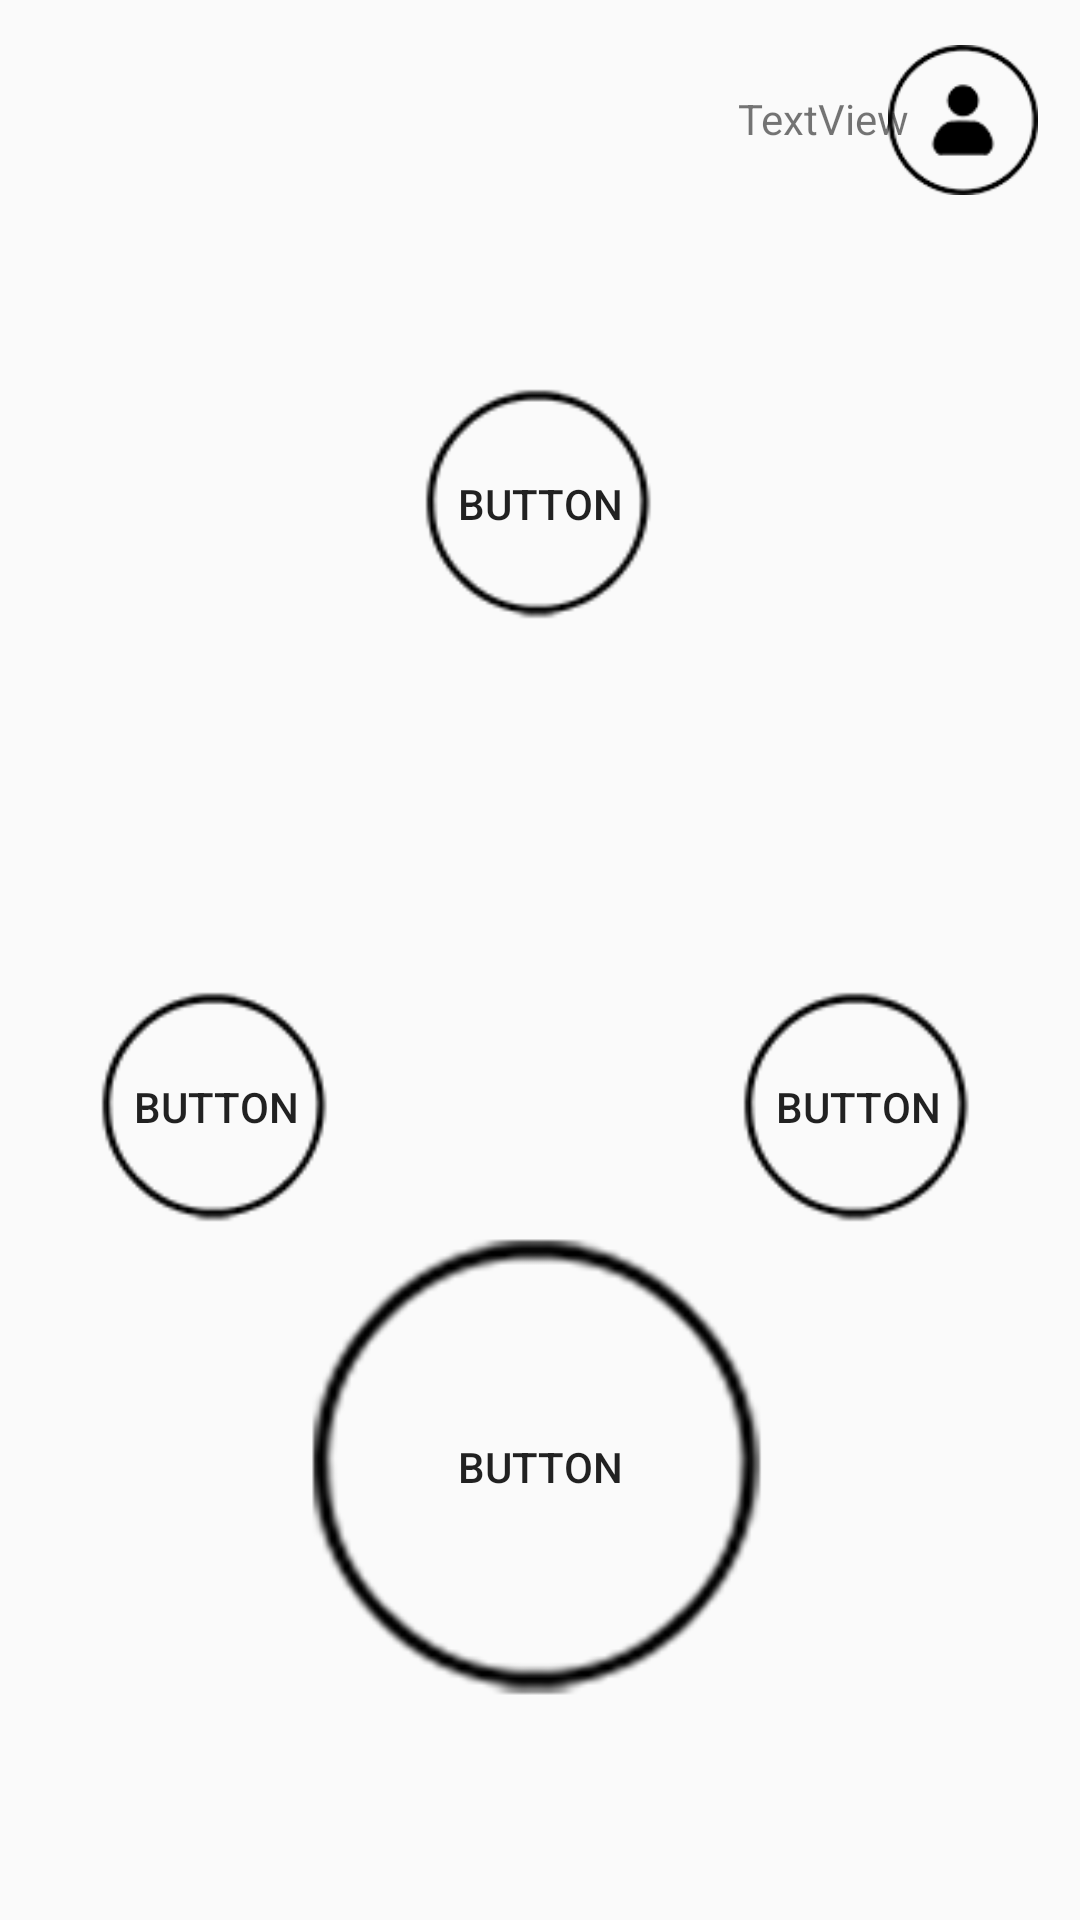

Locate icon controls on the screen. Image size 1080*1920, boxes as (left=x1, top=y1, right=x2, bottom=y2).
user: (left=888, top=45, right=1038, bottom=195)
